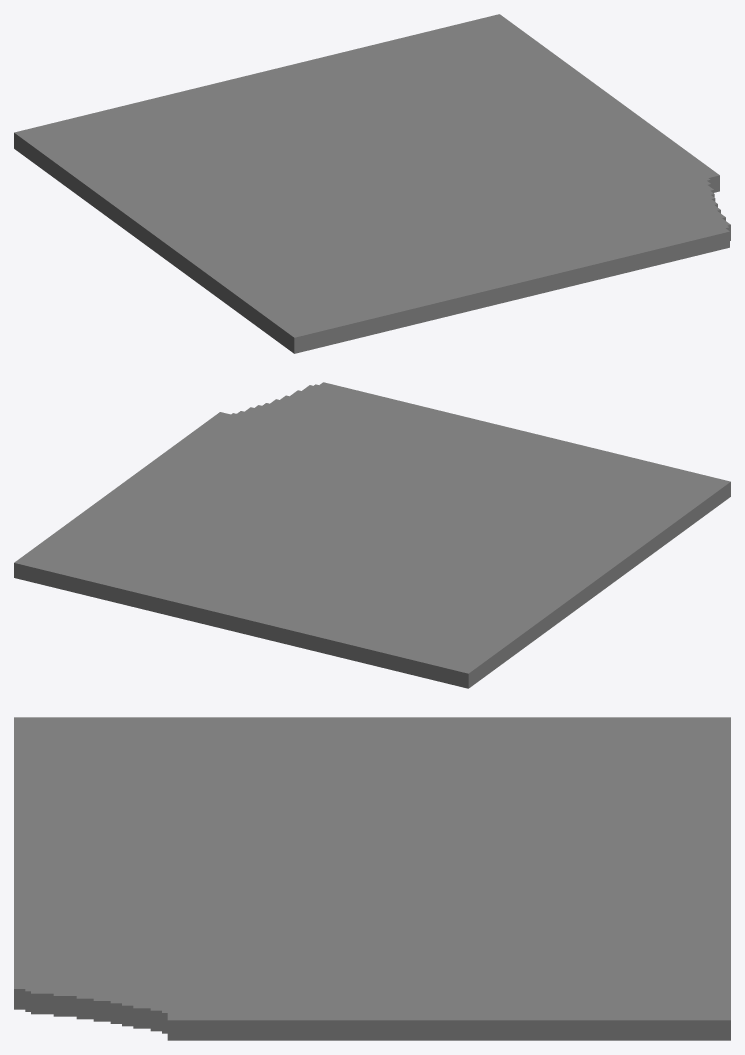
The model's file is Main Island-12.obj.
3 renders of one model, top to bottom at view 1: azimuth 30°, elevation 25°; view 2: azimuth 150°, elevation 25°; view 3: azimuth 270°, elevation 25°, orthographic. The views are drawn at different scales.
Parts seen in each view (by area): view 1: Main Island-12; view 2: Main Island-12; view 3: Main Island-12.
Part boxes in pixels (x1,y1,x2,y2): Main Island-12: [14, 14, 730, 353]; Main Island-12: [14, 382, 730, 688]; Main Island-12: [14, 717, 730, 1040].
Bounding box in the file's own units: 126 × 4 × 126.
Materials: 1 (1 with a texture image).
